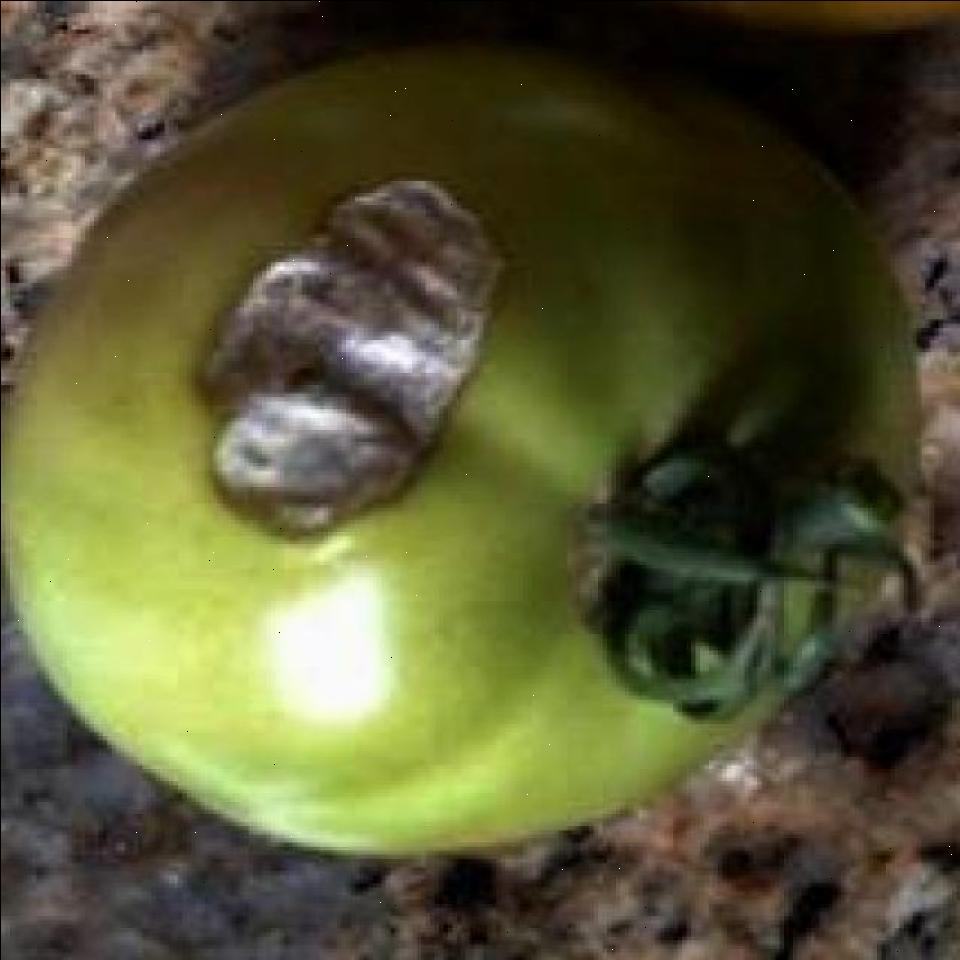Sunscald: (167, 166, 491, 578)
